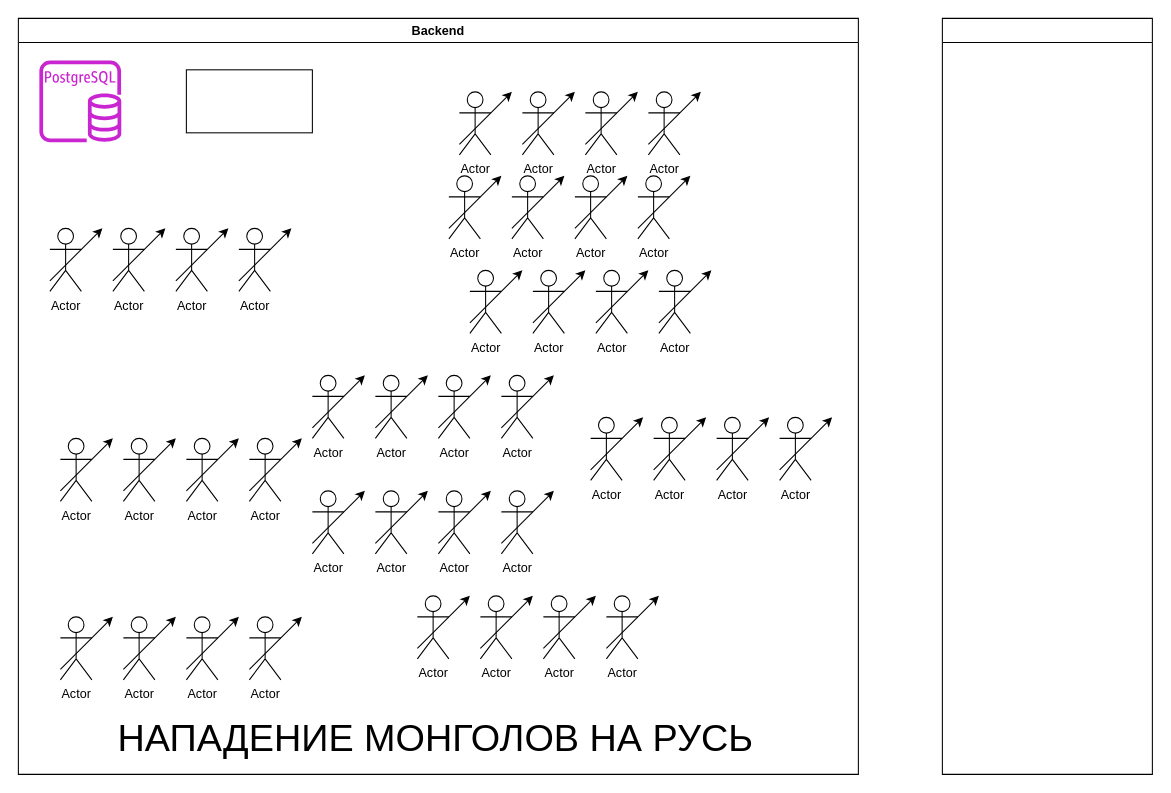
This 1171x793 diagram has some shape labels left out. The shapes that lost their labels are listed below. From the top down, each one's centre as x and y in pixels, then its label:
At point 248,101: ".NET".
At point 1046,395: "UI".
